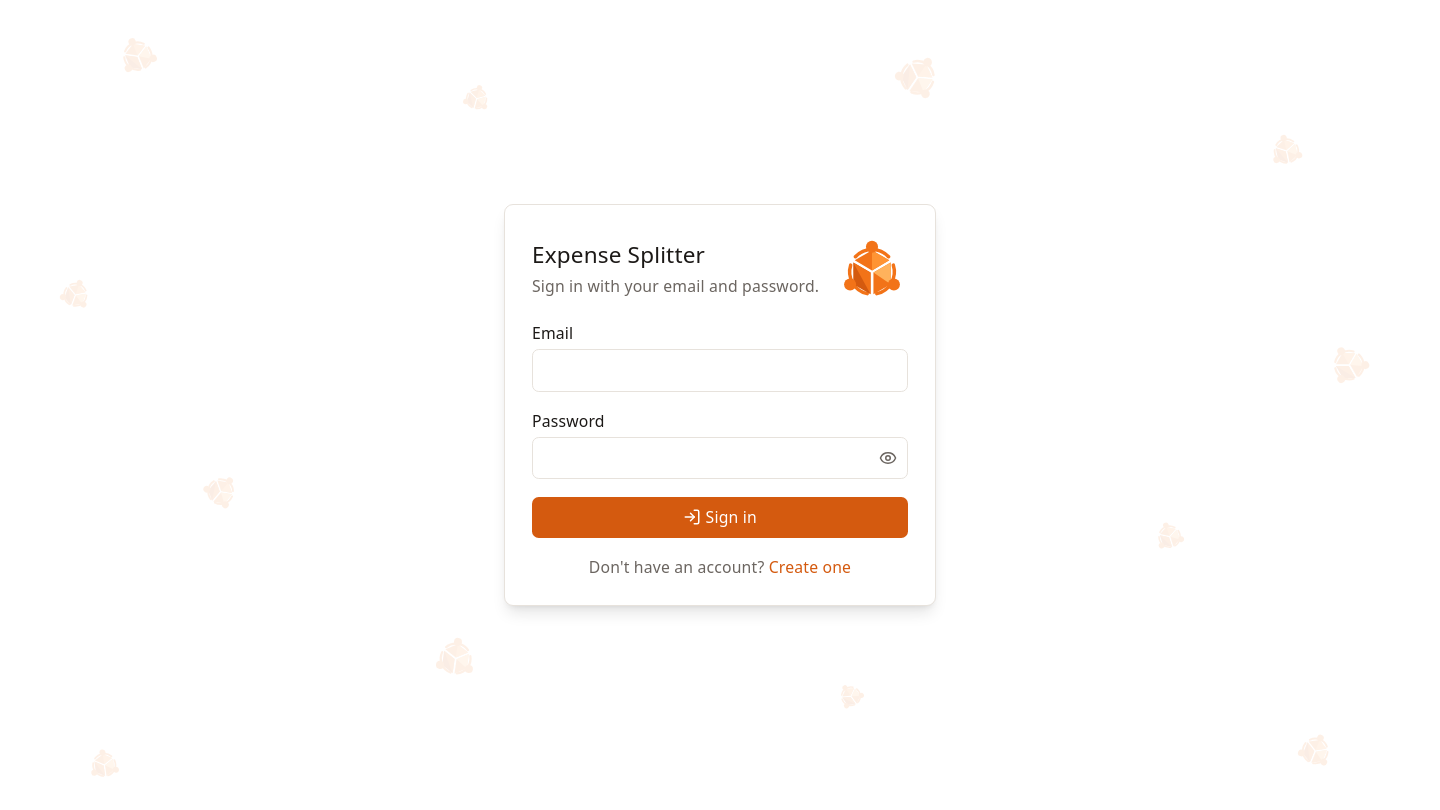
Scenario: LoginPage › shows validation errors when submitted empty
Step 1. Click the button "Sign in" → (720, 517), box [532,497,908,538]
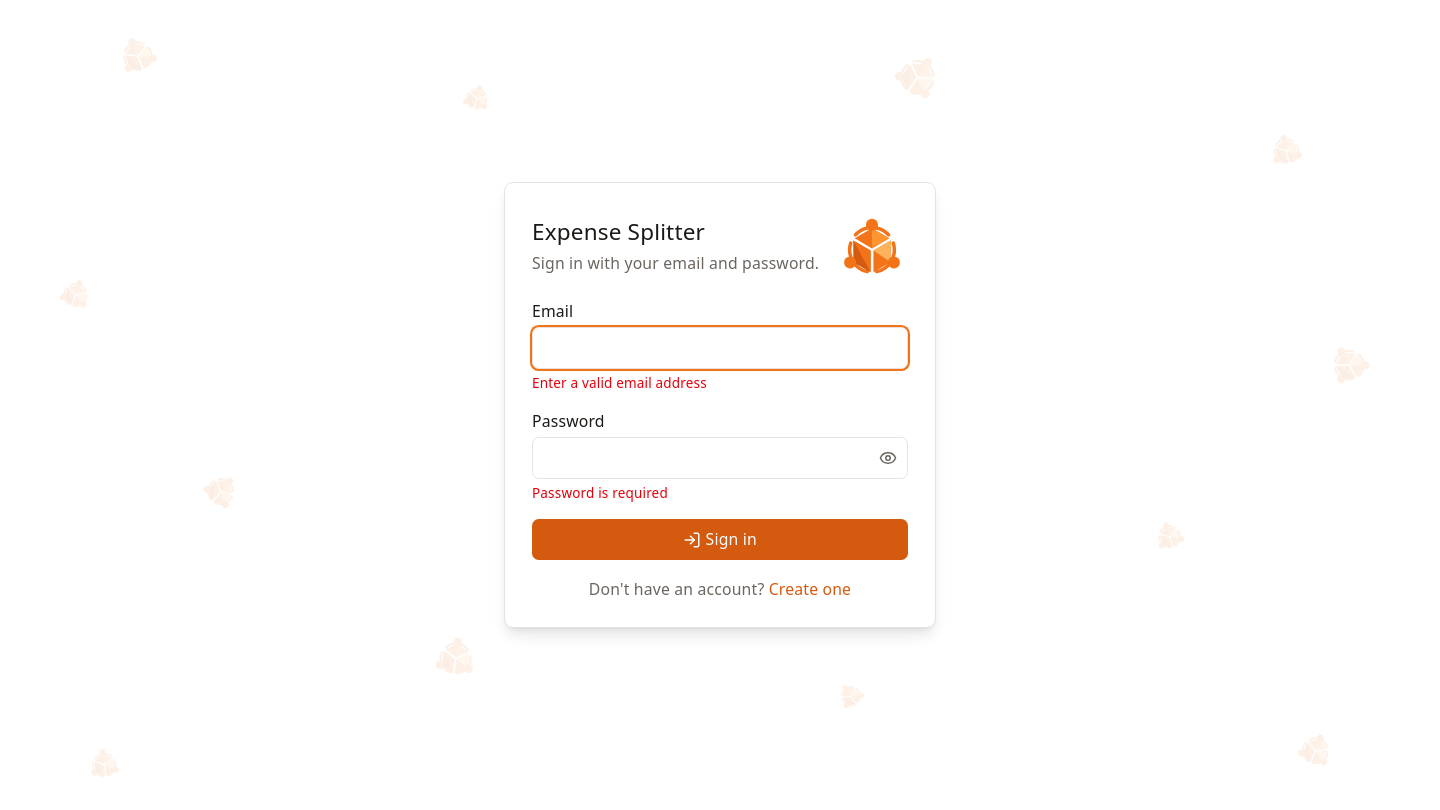
Result: the text "Enter a valid email address" is shown at [532,374,707,392]
Result: the text "Password is required" is shown at [532,484,668,502]
